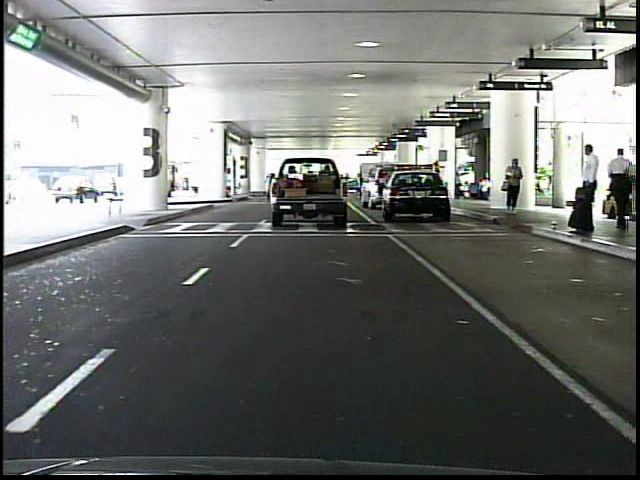person: (570, 140, 604, 239), (605, 143, 634, 232), (501, 151, 527, 220), (430, 159, 445, 204)
